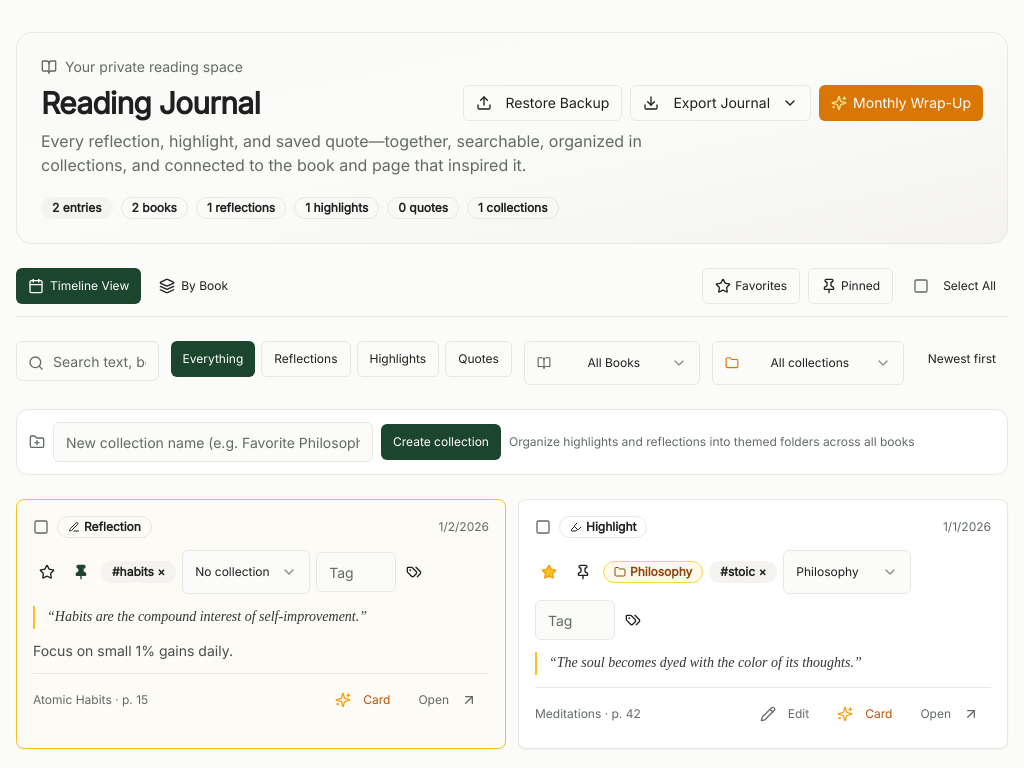
it: ReadingJournalPage › filters entries by search query
Type "compound interest" into the field named "Search journal" at (87, 361), box [16,341,159,381]
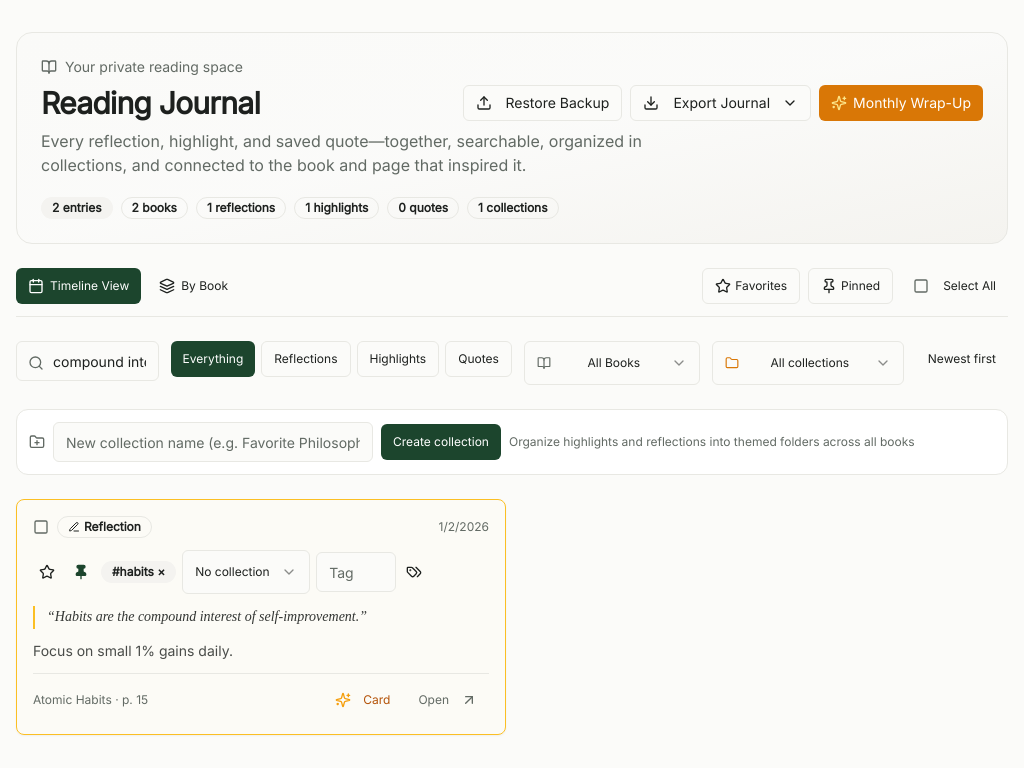
Expected: the text "“Habits are the compound interest of self-improvement.”" is shown, [33,606,489,629]
Expected: the text "The soul becomes dyed with the color of its thoughts" is gone
